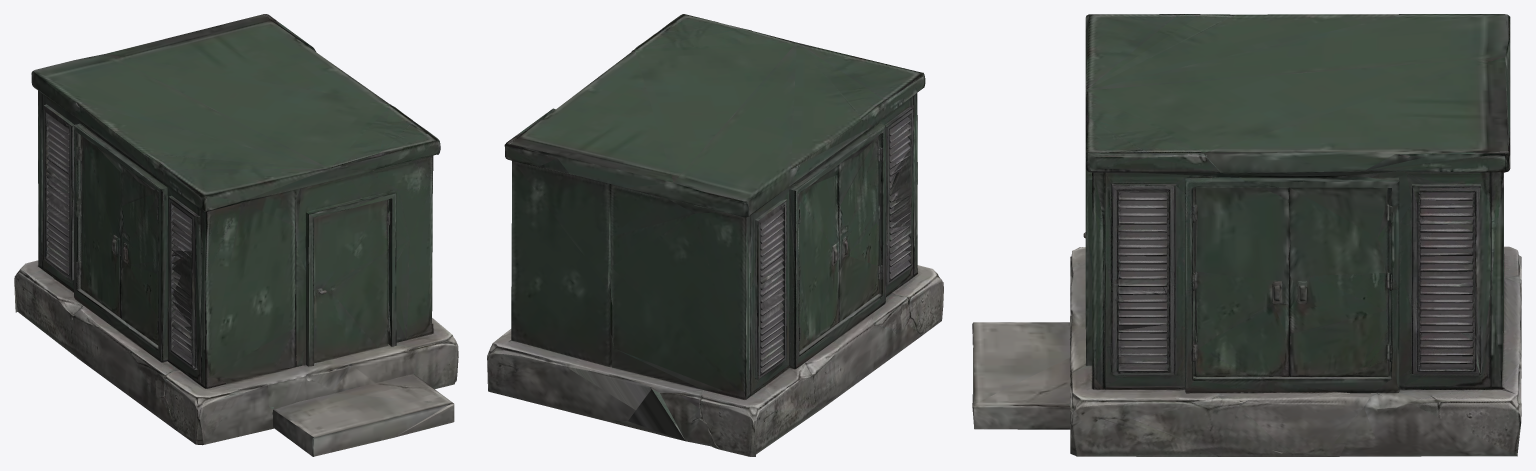
Rendered from kiosk.glb.
3 views of the same model, side by side, from view 1: azimuth 30°, elevation 25°; view 2: azimuth 150°, elevation 25°; view 3: azimuth 270°, elevation 25° (orthographic). The views are drawn at different scales.
Size of the model in its own units: 1.28 by 1.13 by 1.9.
1 material, 1 textured.
